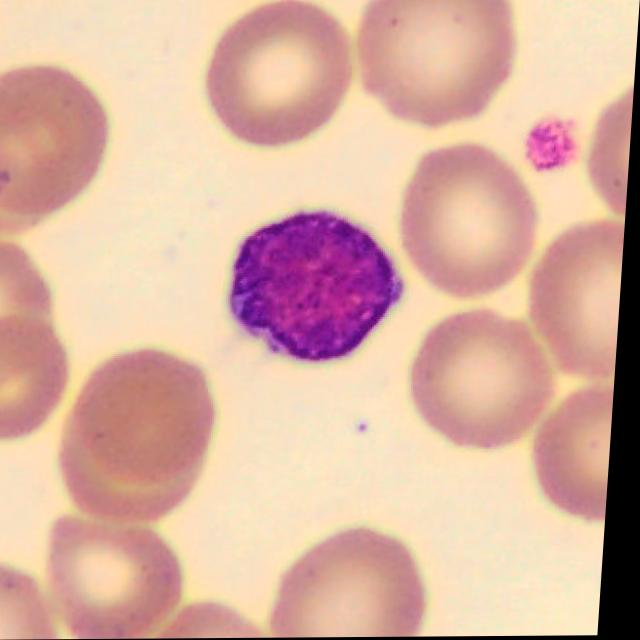Linfocito: (236, 213, 405, 359)
